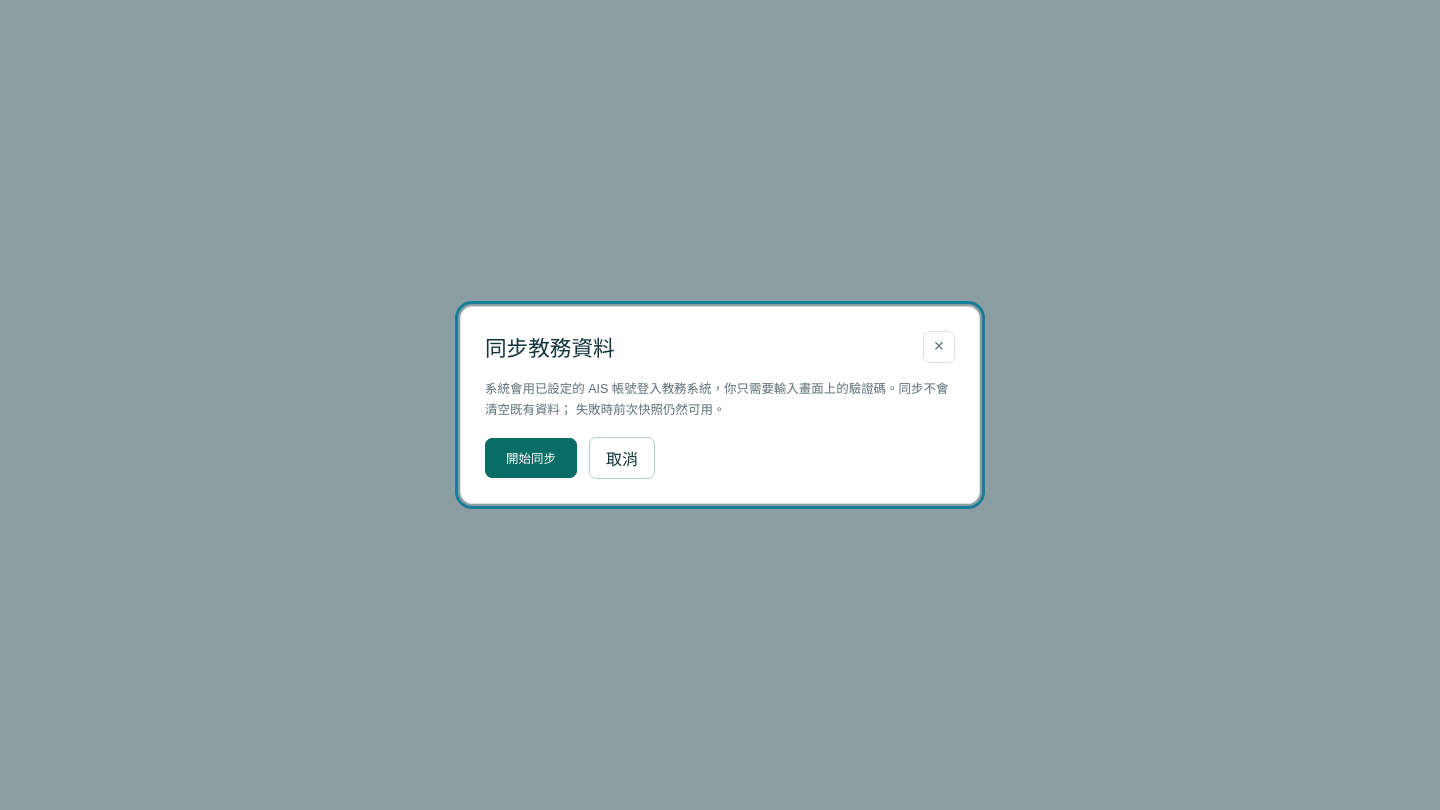
Scenario: SyncDialog（AIS 同步） › 驗證碼格式不對在欄位旁提示，不送出請求
Click the button "開始同步" at x=531, y=458, box top-left (485, 438), bottom-right (577, 478)
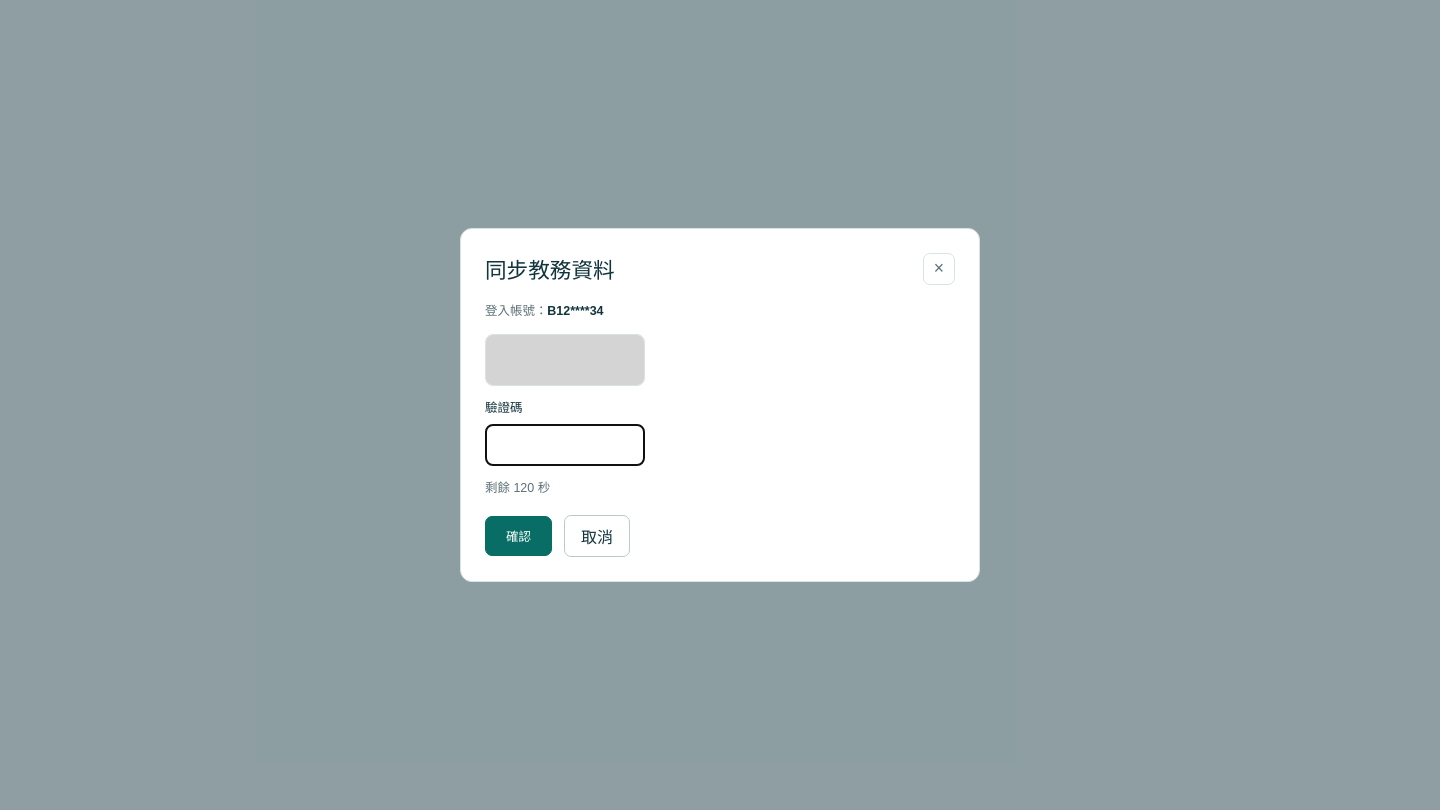
Expected: the field labelled "驗證碼" is shown
Type "12" into the field labelled "驗證碼" at x=565, y=445, box top-left (485, 424), bottom-right (645, 466)
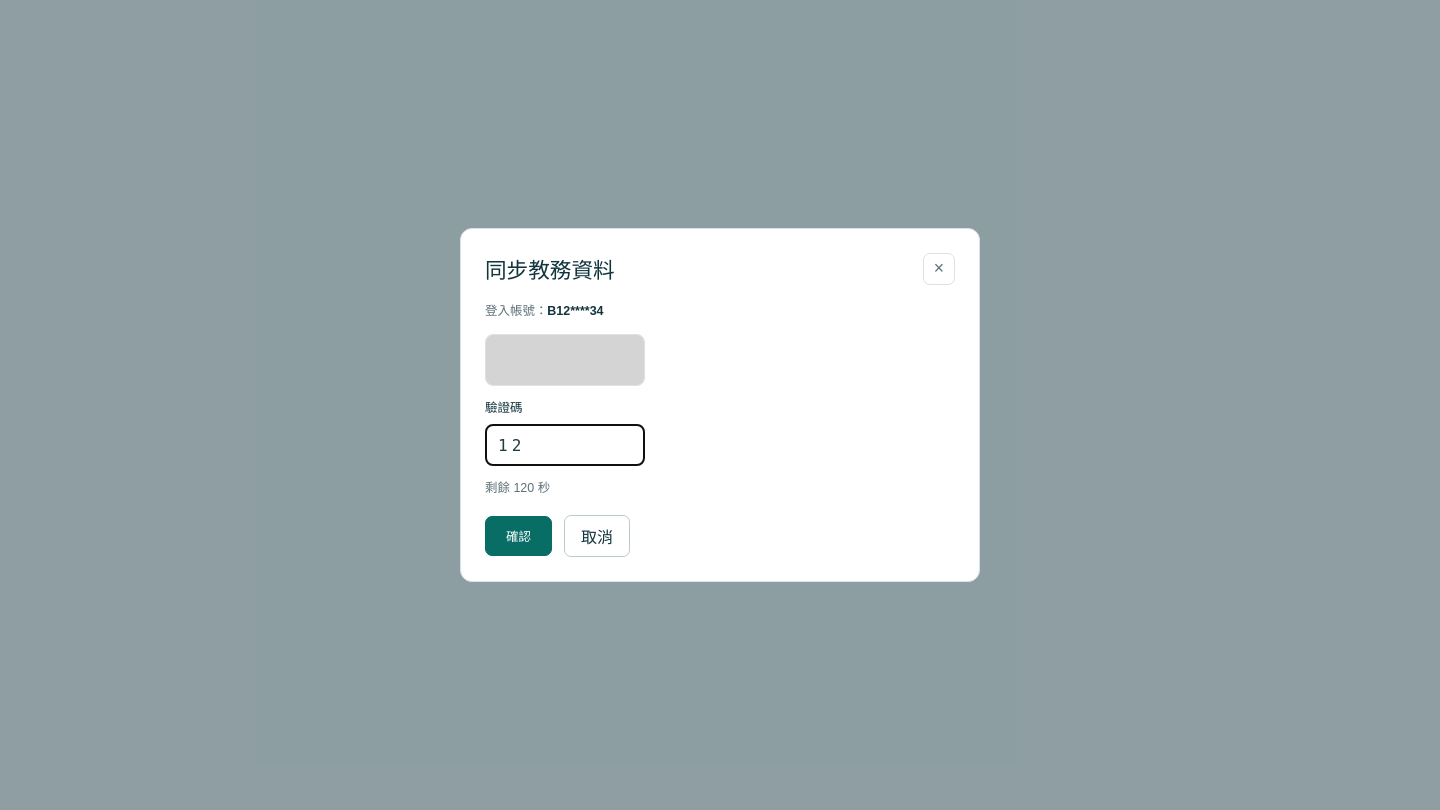
Click the button "確認" at x=518, y=536, box top-left (485, 516), bottom-right (552, 556)
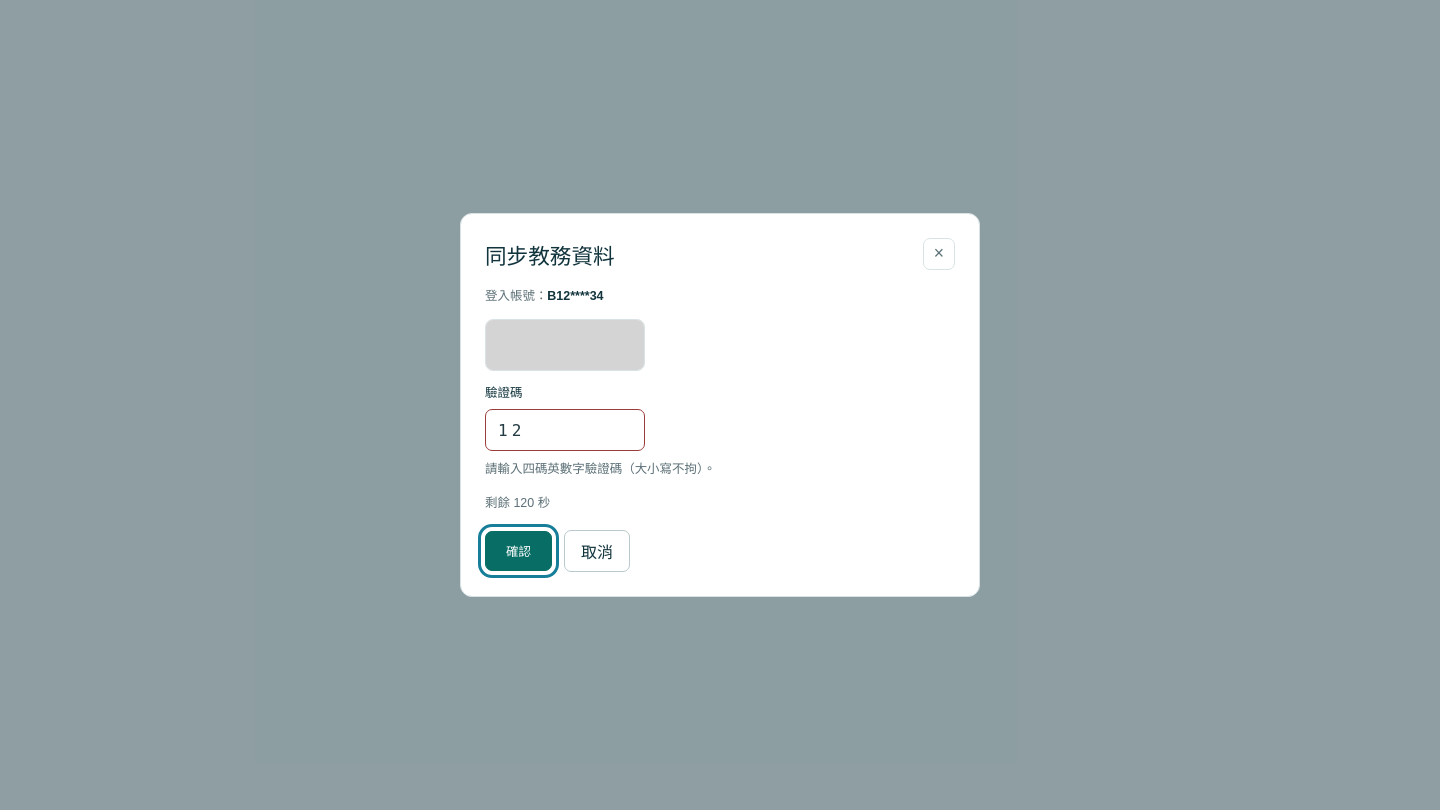
Expected: the message shows "四碼英數字", top-left (485, 462), bottom-right (716, 476)
